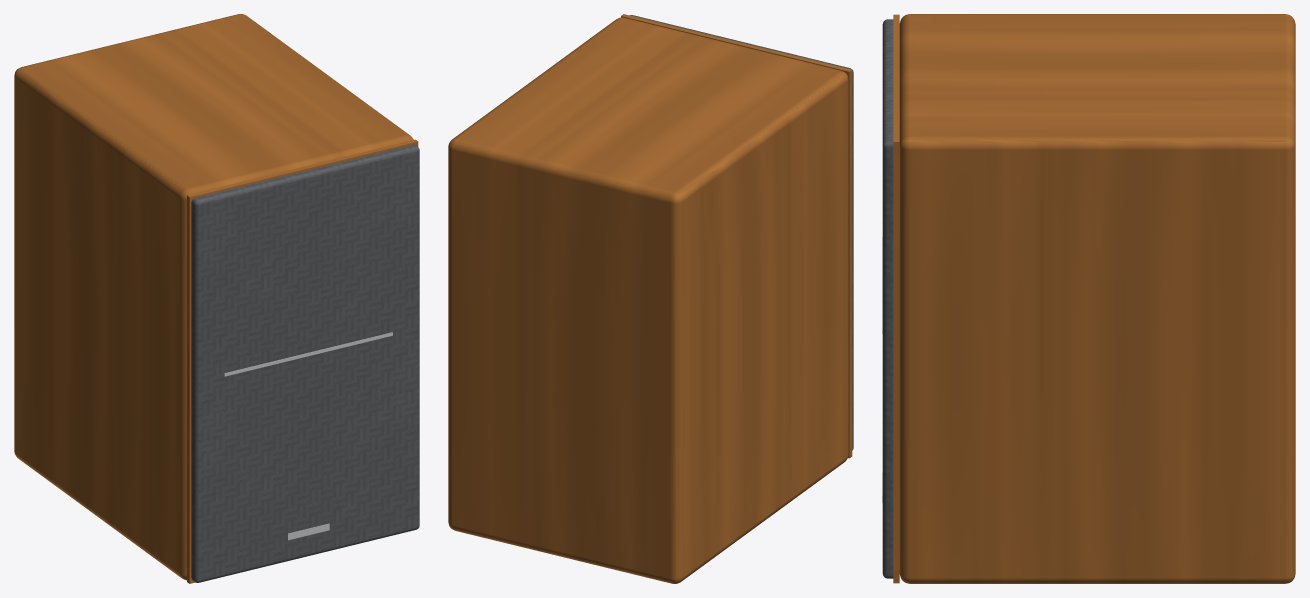
File: altavoz-izquierdo.glb
The picture shows the model from 3 angles, left to right: view 1: azimuth 30°, elevation 25°; view 2: azimuth 150°, elevation 25°; view 3: azimuth 270°, elevation 25°; orthographic projection. The views are drawn at different scales.
Visible parts, largest first — view 1: altavoz-izquierdo; view 2: altavoz-izquierdo; view 3: altavoz-izquierdo.
Part boxes in pixels (x1,y1,x2,y2): altavoz-izquierdo: (14, 14, 419, 583); altavoz-izquierdo: (448, 14, 853, 583); altavoz-izquierdo: (882, 14, 1295, 583).
Bounding box in the file's own units: 0.146 × 0.234 × 0.1962.
4 materials, 2 textured.
